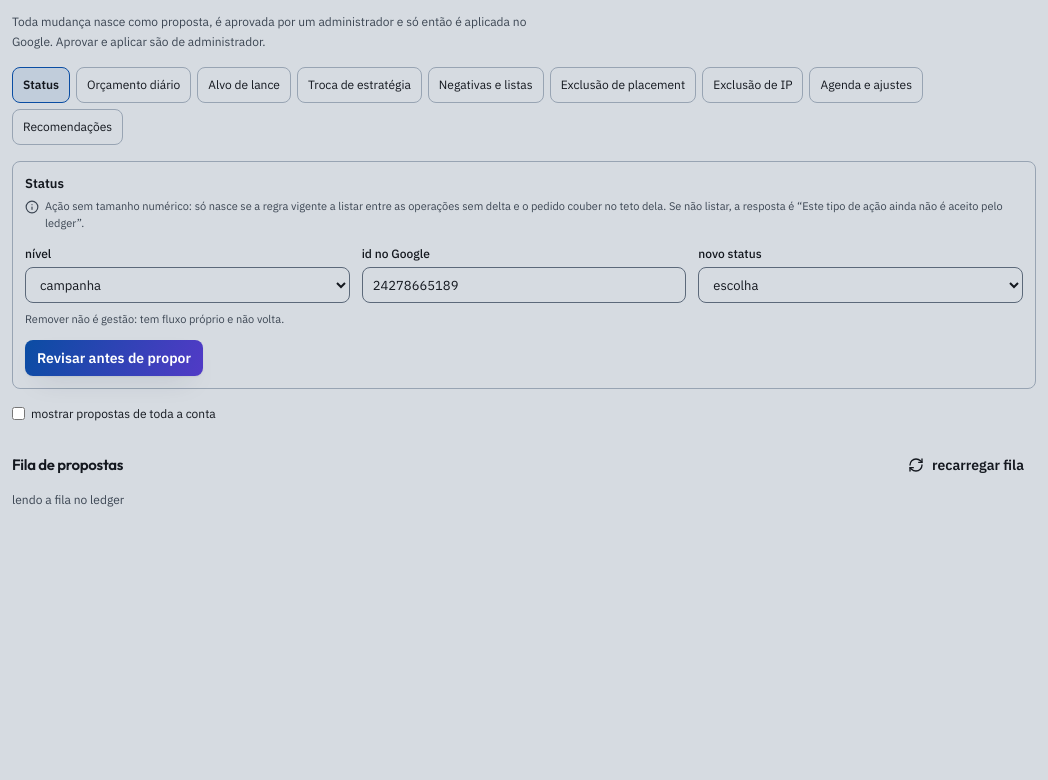
Scenario: propor: formulário → antes/depois → proposta › orçamento: confirma com o antes lido e manda o payload do contrato
The width and height of the screenshot is (1048, 780).
Click the button "Orçamento diário" at (134, 85), box [76, 67, 191, 103]
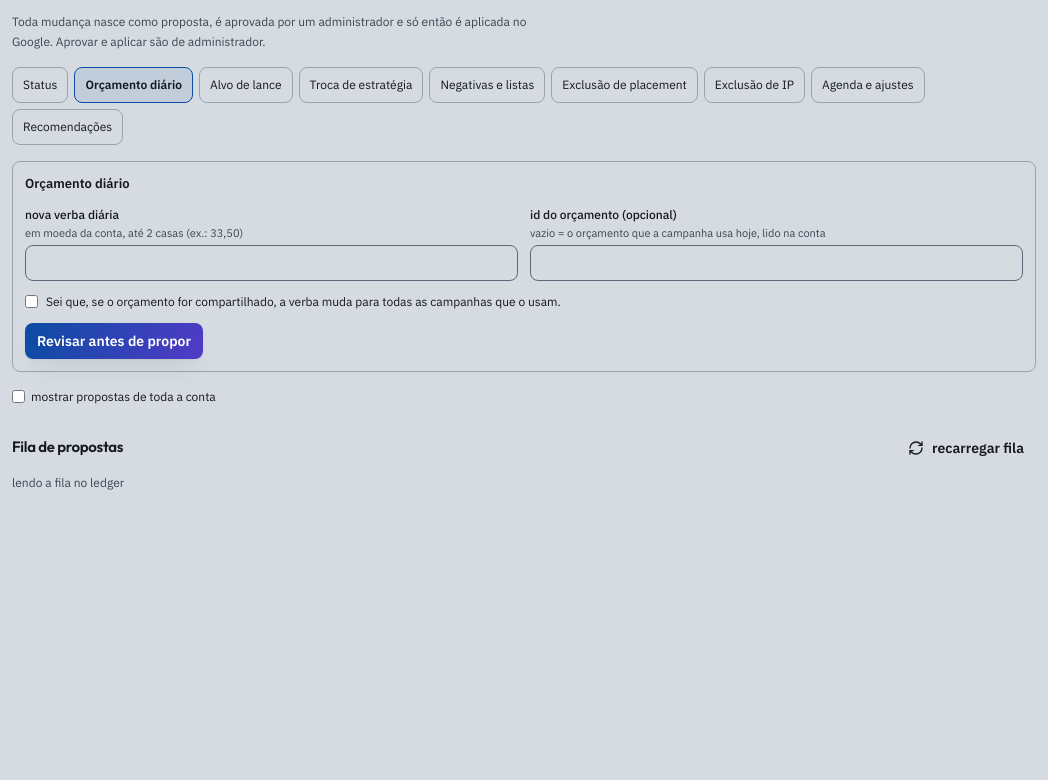
Type "33,00" into the field labelled "nova verba diária" at (272, 263), box [25, 245, 518, 281]
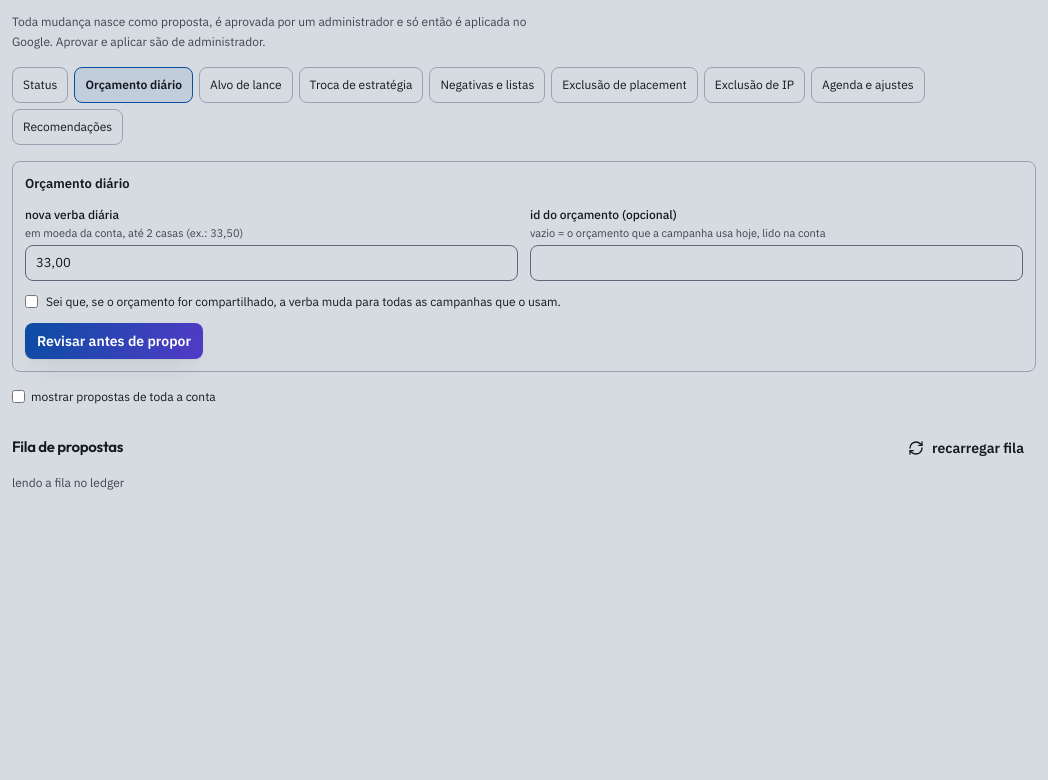
Click the button "Revisar antes de propor" at (114, 341), box [25, 323, 203, 359]
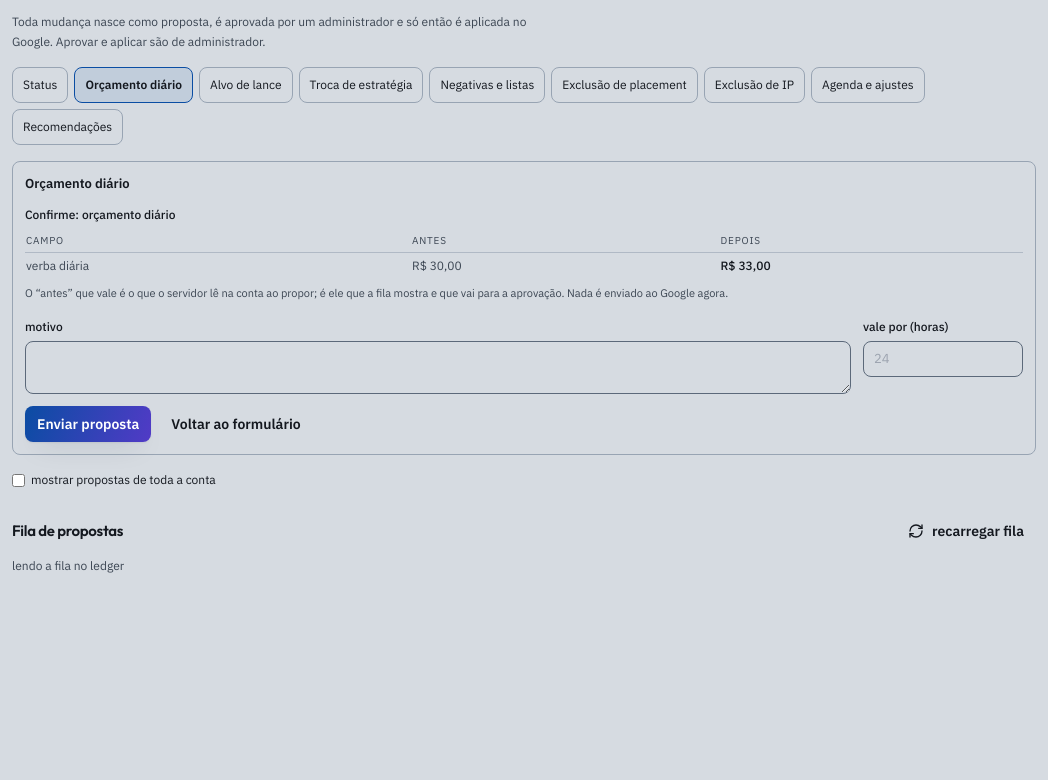
expect the text "R$ 30,00" is shown: met, box [404, 252, 712, 278]
expect the text "R$ 33,00" is shown: met, box [712, 252, 1023, 278]
Click the button "Enviar proposta" at (88, 424), box [25, 406, 151, 442]
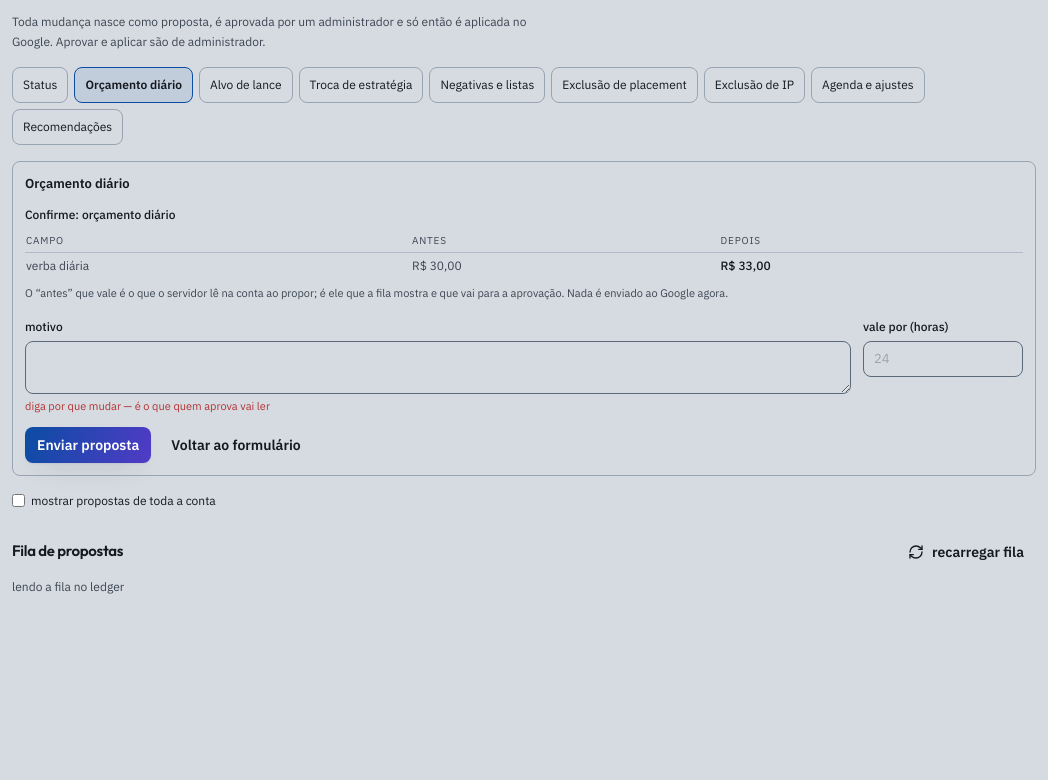
expect the text "diga por que mudar — é o que quem aprova vai ler" is shown: met, box [25, 399, 270, 413]
Type "verba limita entrega" into the text box labelled "motivo" at (438, 368), box [25, 341, 851, 394]
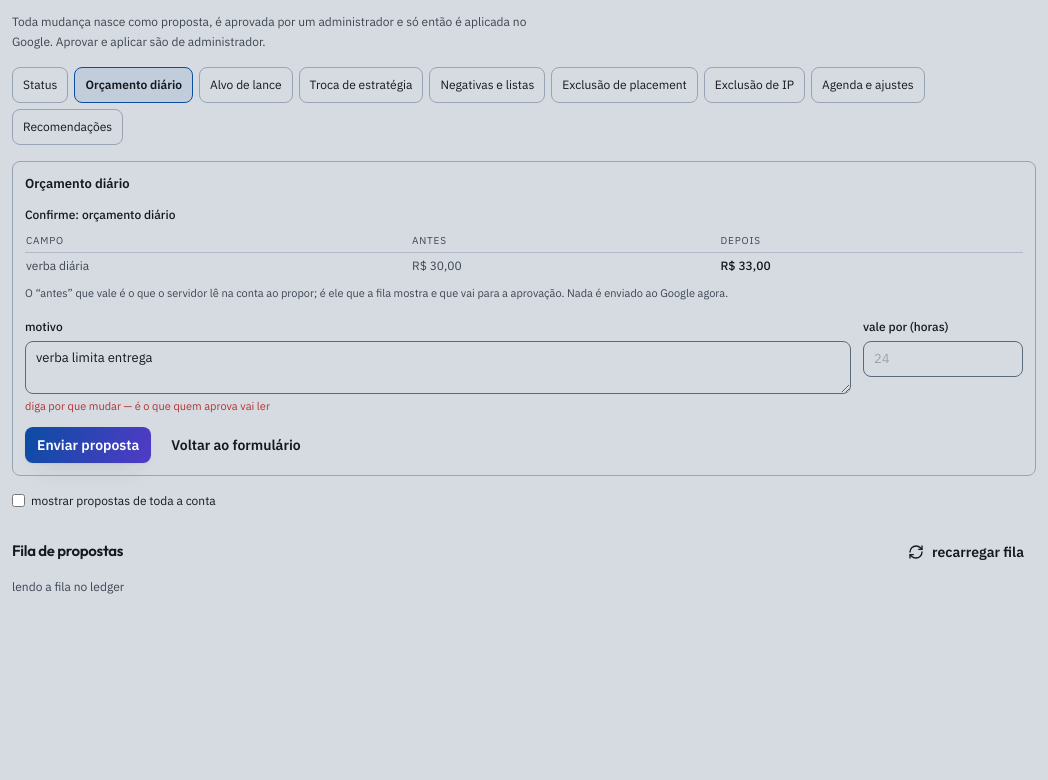
Click the button "Enviar proposta" at (88, 444), box [25, 426, 151, 462]
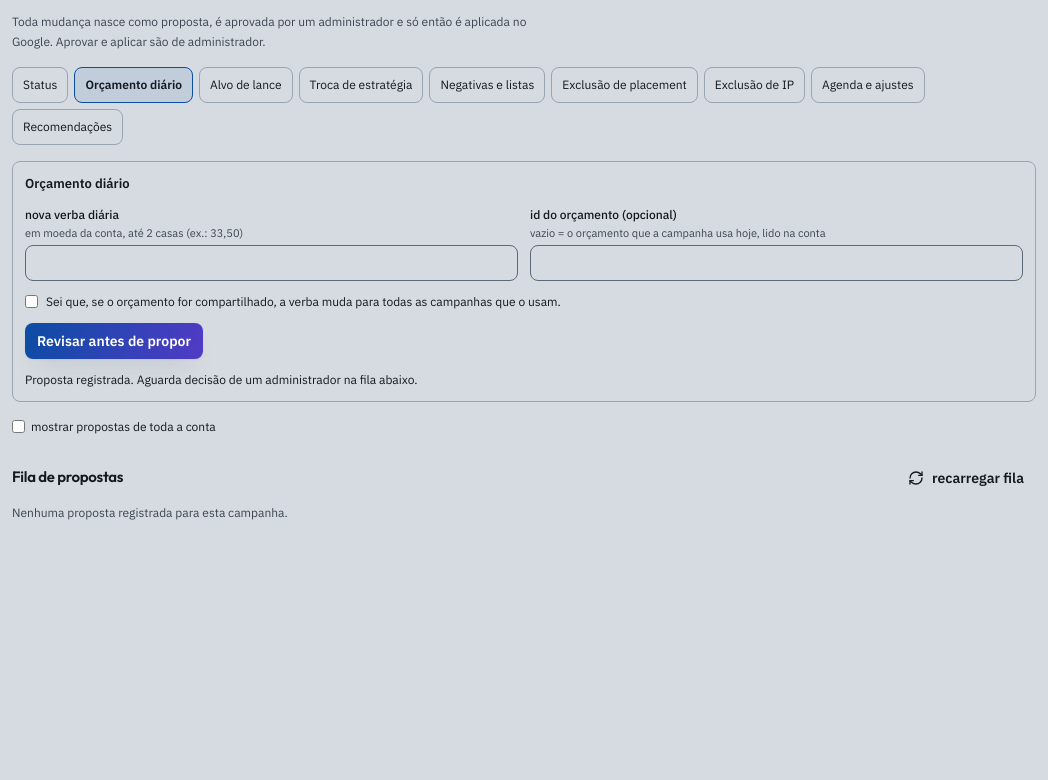
expect the text "Proposta registrada. Aguarda decisão de um administrador na fila abaixo." is shown: met, box [25, 372, 418, 387]
